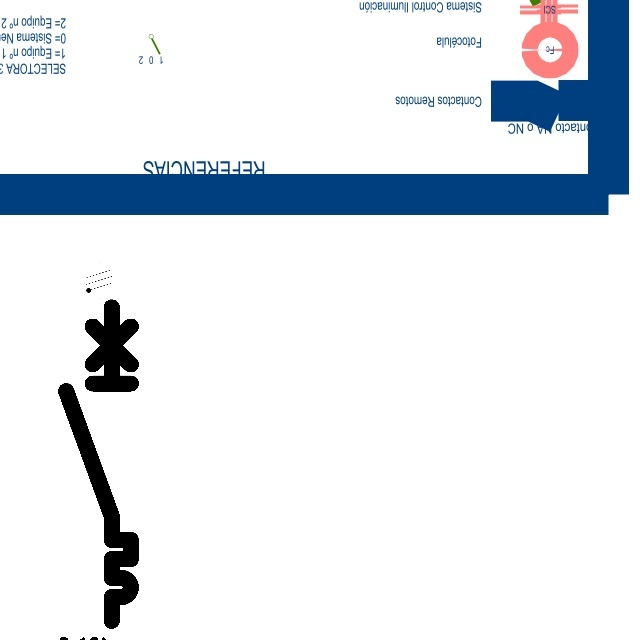interruptor_termomagnetico: (58, 299, 139, 629)
